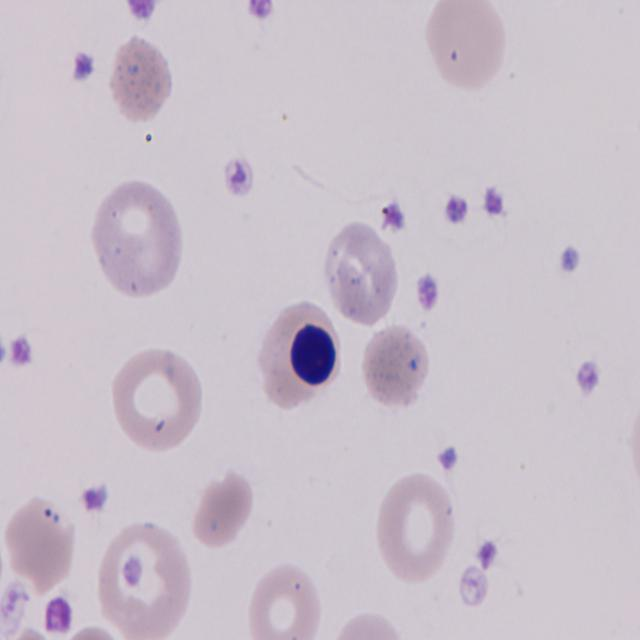RBC: (92, 516, 195, 634), (90, 175, 184, 302), (108, 345, 206, 458), (372, 469, 460, 584), (2, 486, 84, 604), (421, 0, 513, 94), (324, 220, 400, 328), (355, 318, 434, 415), (107, 26, 174, 136), (244, 560, 326, 638)
